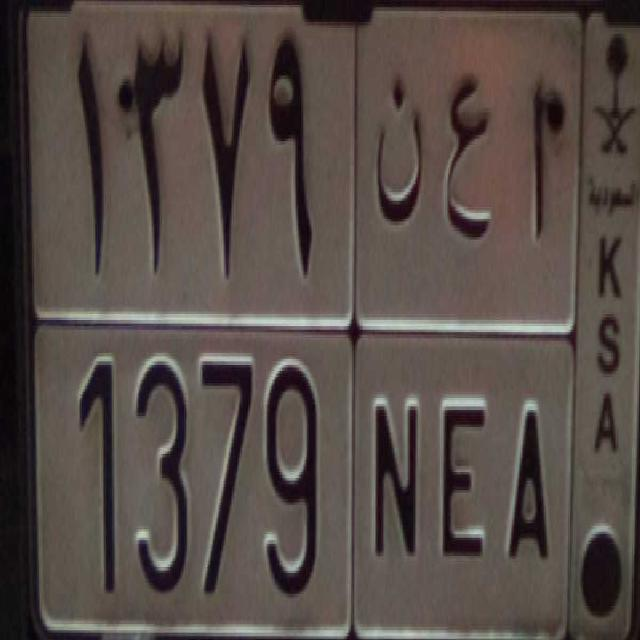license_plate: (43, 306, 566, 640)
